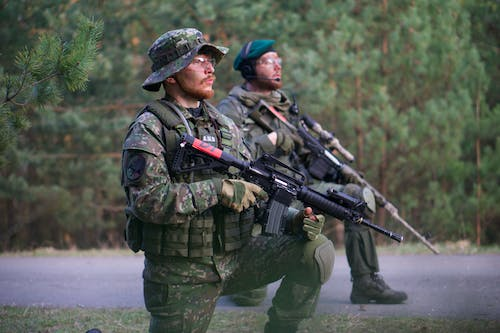gun: (246, 98, 439, 255), (169, 133, 404, 244)
